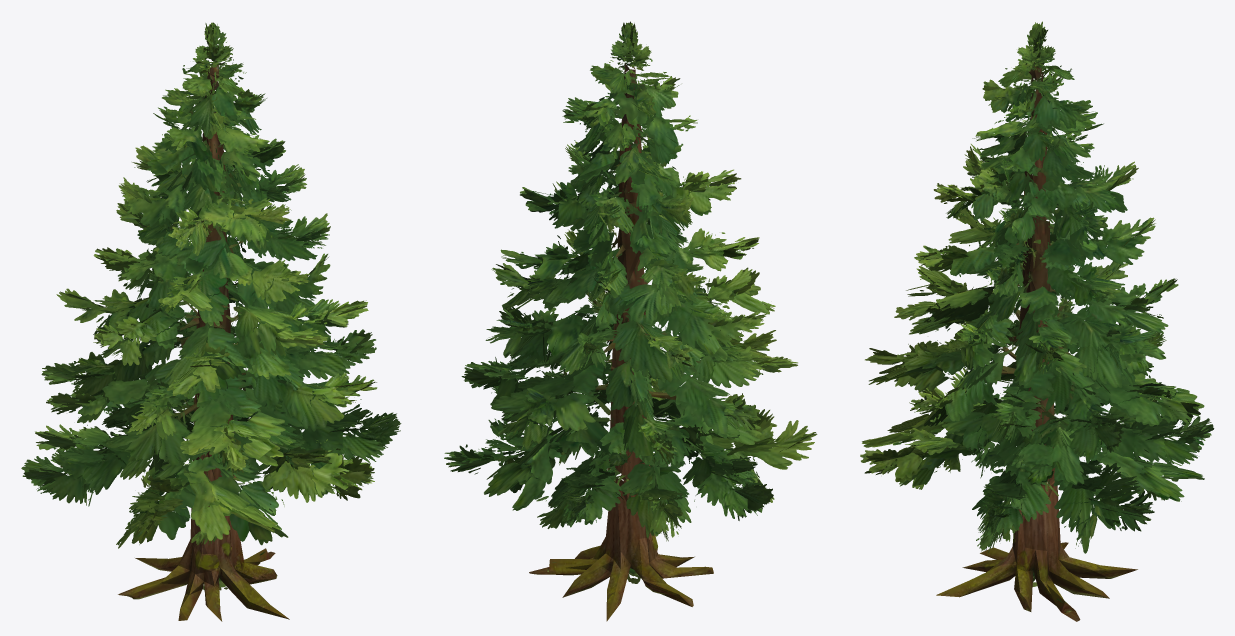
The model's file is koru_ladin_lod1.glb.
The picture shows the model from 3 angles, left to right: view 1: azimuth 30°, elevation 25°; view 2: azimuth 150°, elevation 25°; view 3: azimuth 270°, elevation 25°; orthographic projection.
Parts seen in each view (by area): view 1: koru_ladin_lod1; view 2: koru_ladin_lod1; view 3: koru_ladin_lod1.
Boxes of the visible parts, <box> form: koru_ladin_lod1: <box>21,22,401,621</box>; koru_ladin_lod1: <box>444,21,817,621</box>; koru_ladin_lod1: <box>860,21,1214,621</box>.
Size of the model in its own units: 7.59 by 12.11 by 7.17.
2 materials, 2 textured.
